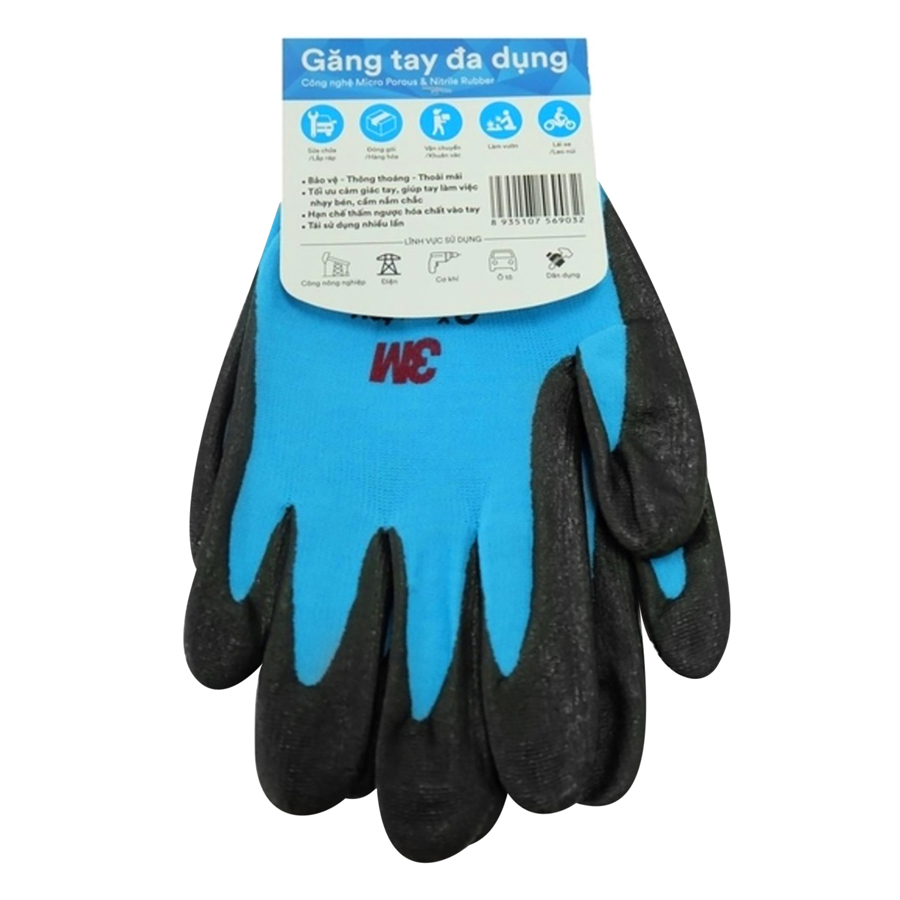3M: (365, 334, 458, 393)
